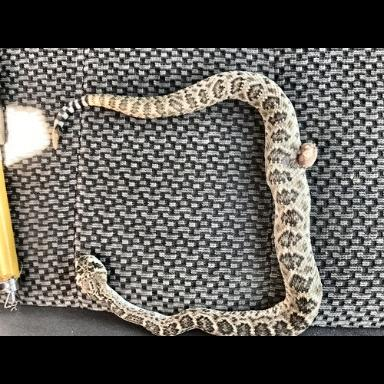snake: (61, 72, 323, 336)
